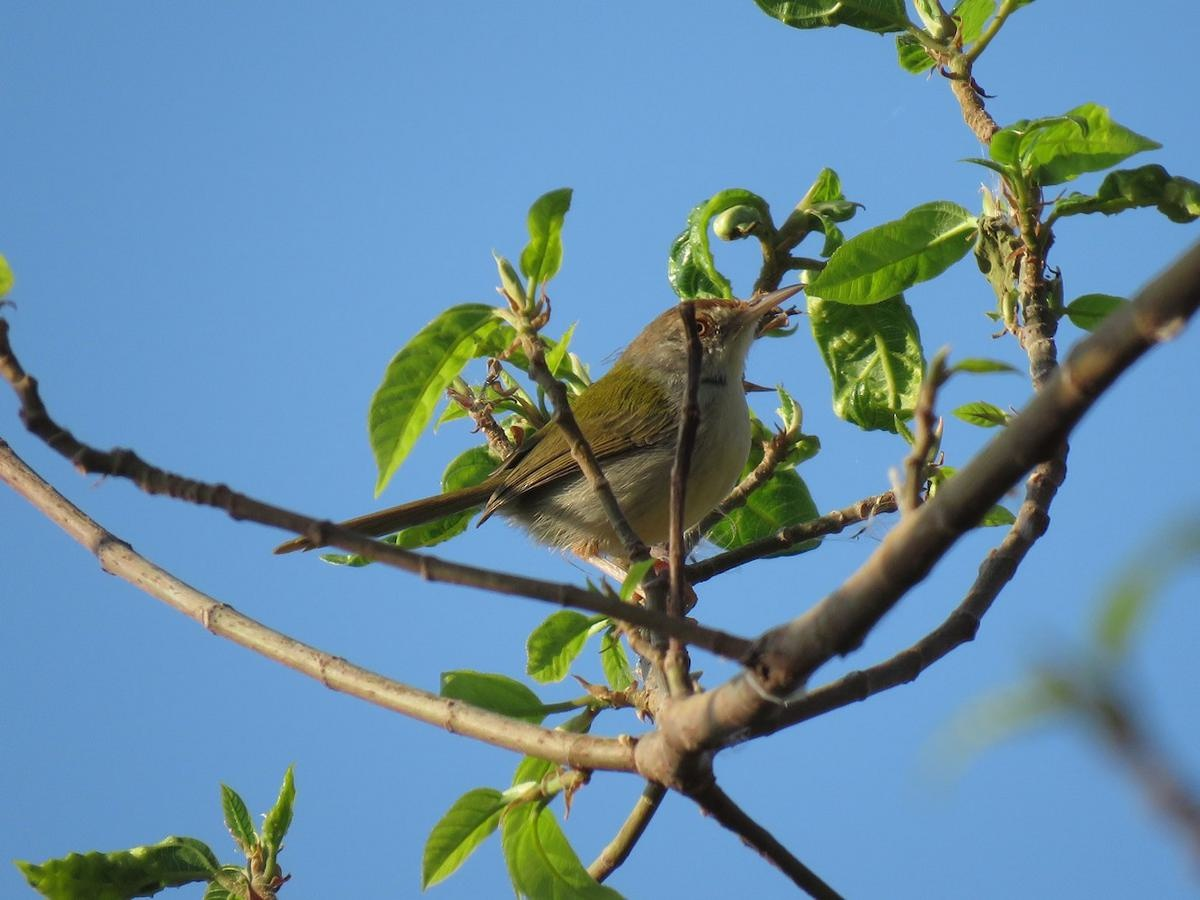tailorbird: (335, 244, 834, 605)
